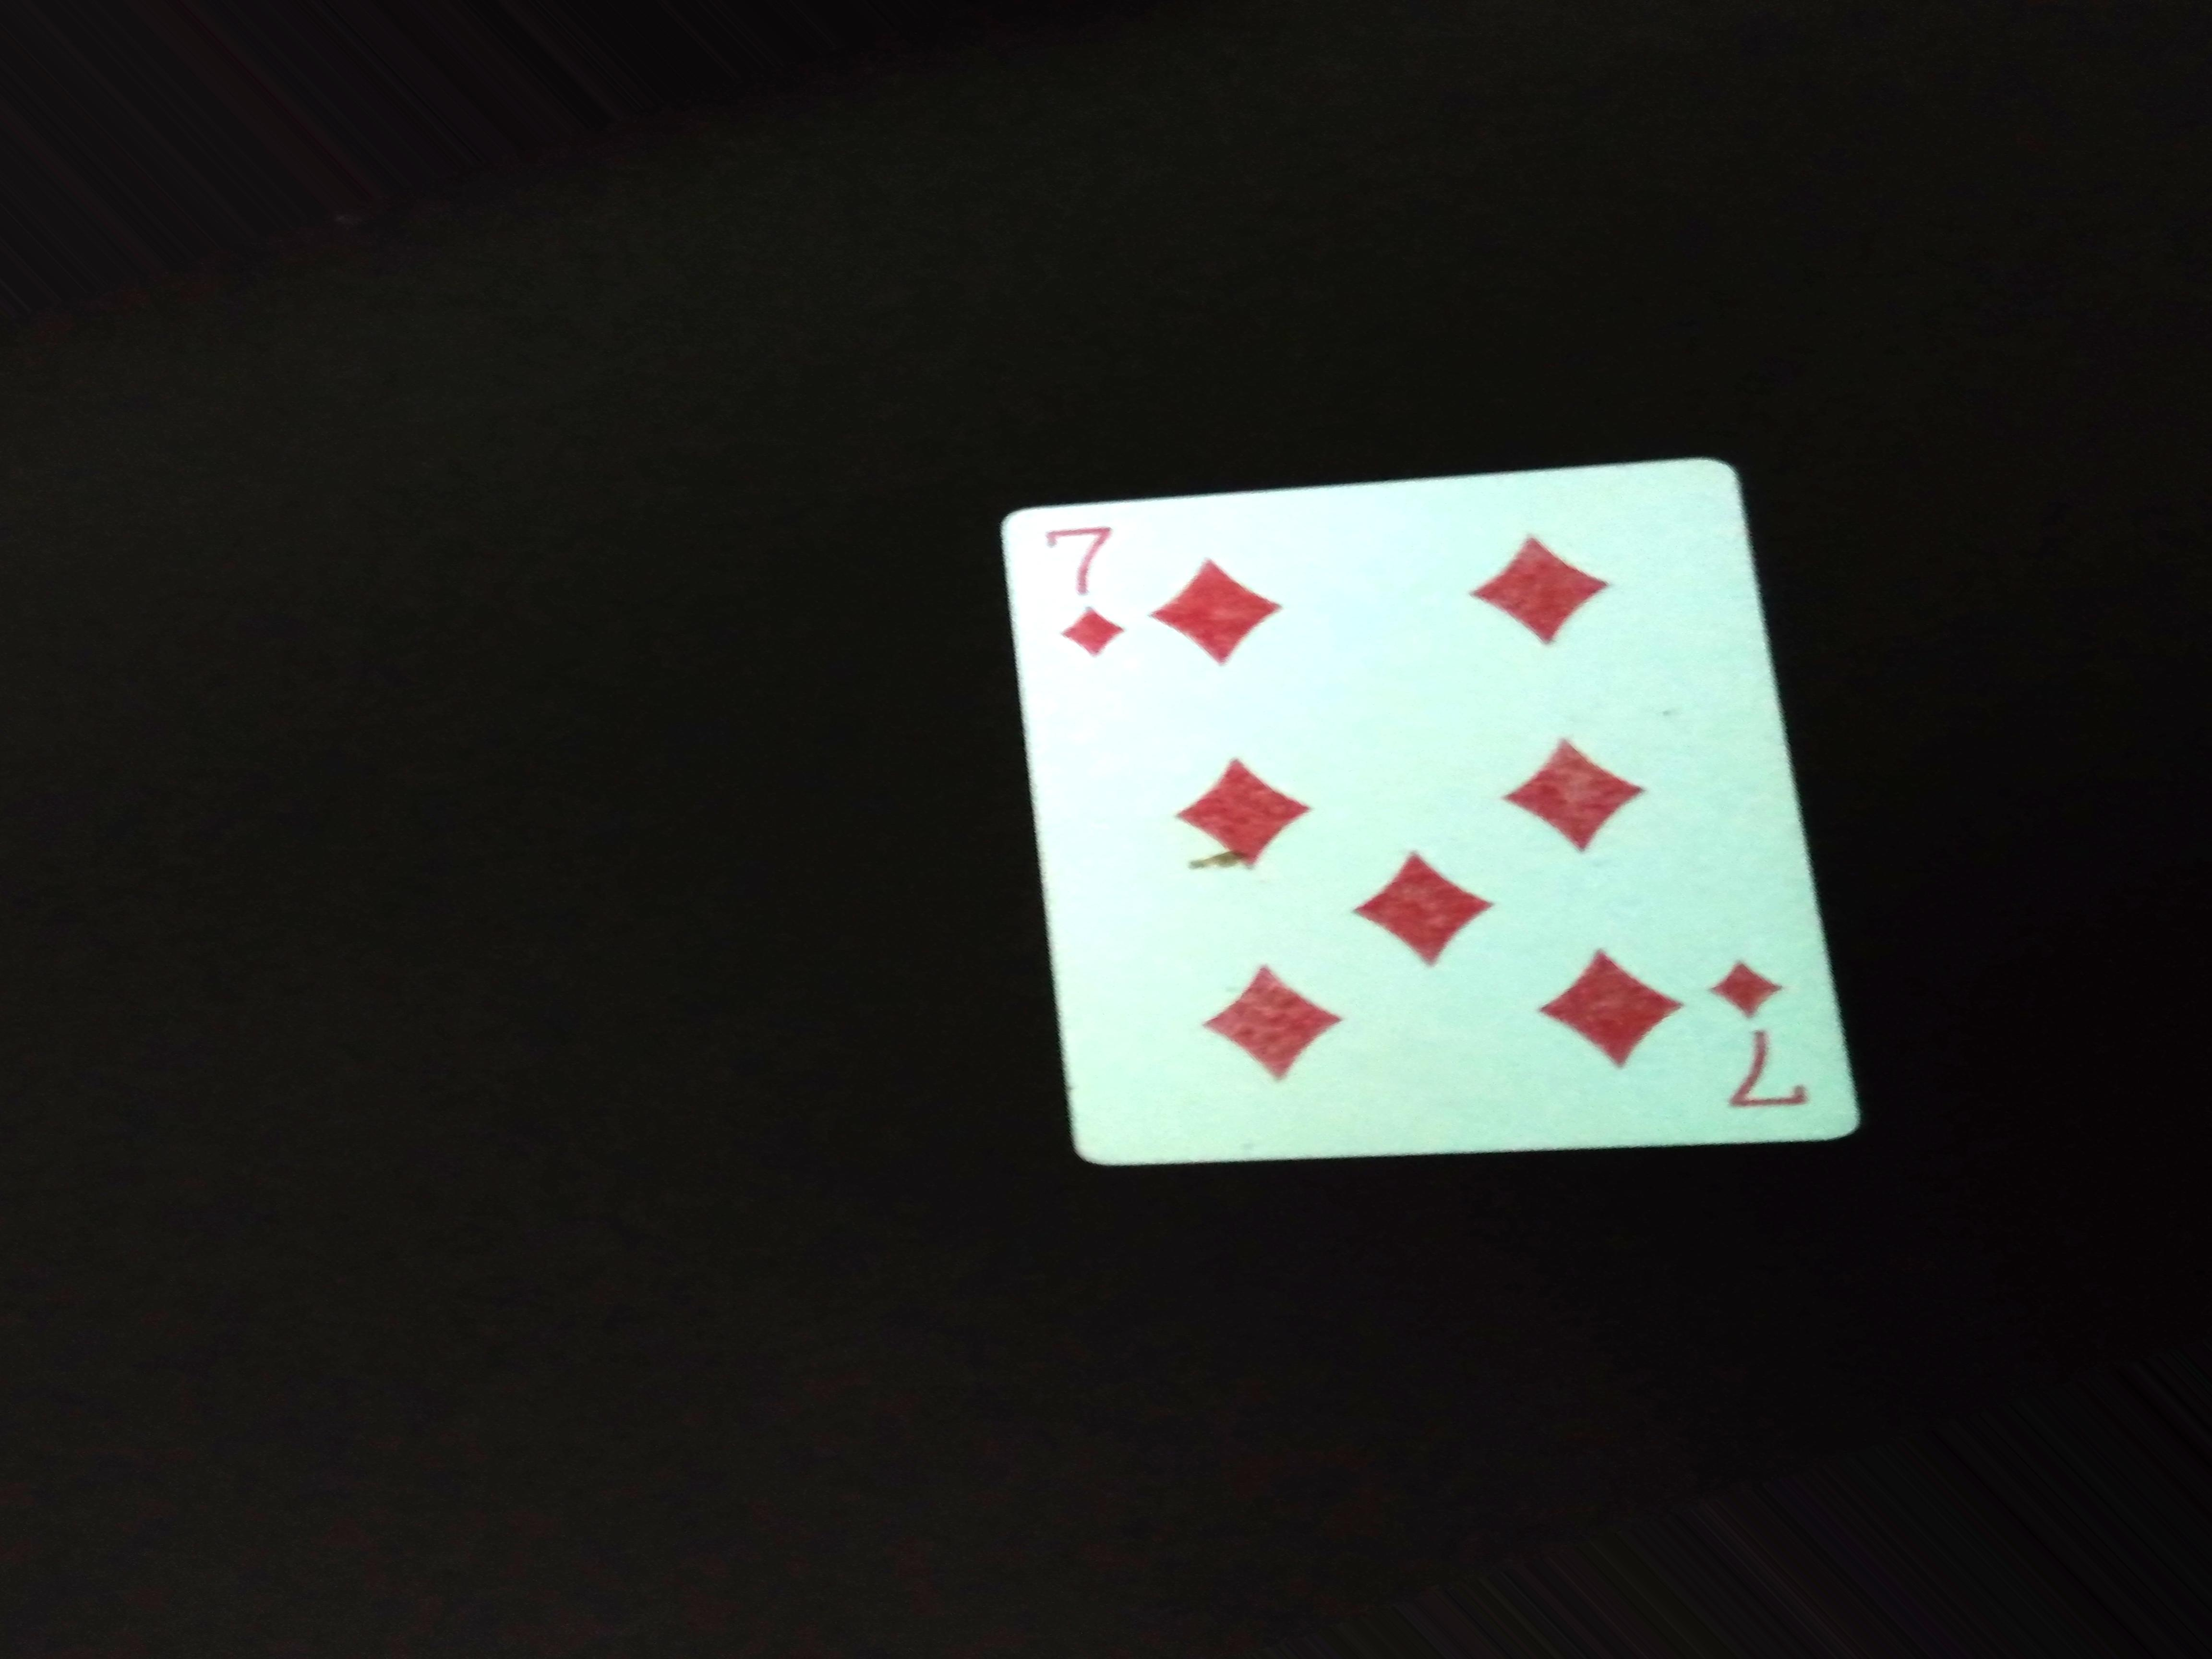7D: (1707, 938, 1831, 1119)
